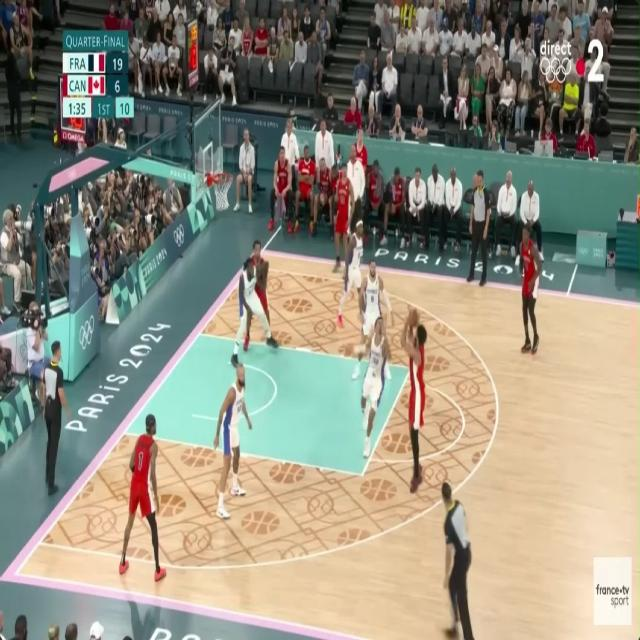ball_handler: (400, 308, 426, 496)
